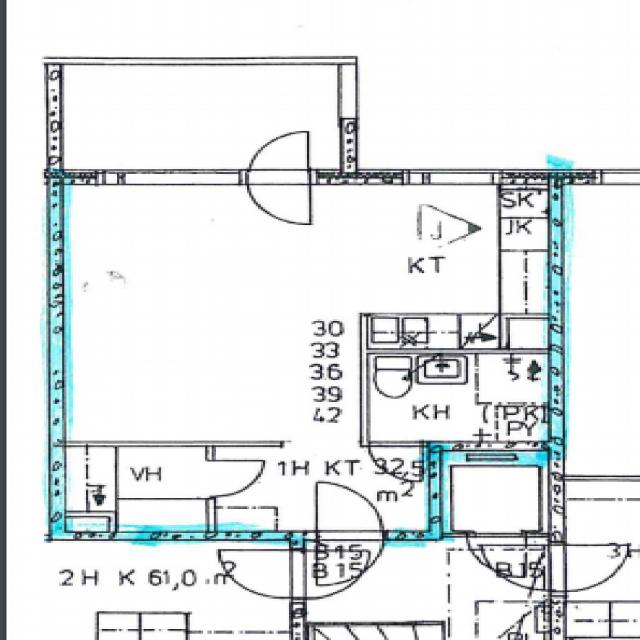door: (316, 531, 384, 588), (316, 482, 384, 539), (248, 126, 308, 184), (248, 170, 308, 228), (370, 440, 423, 485), (207, 460, 269, 498)
